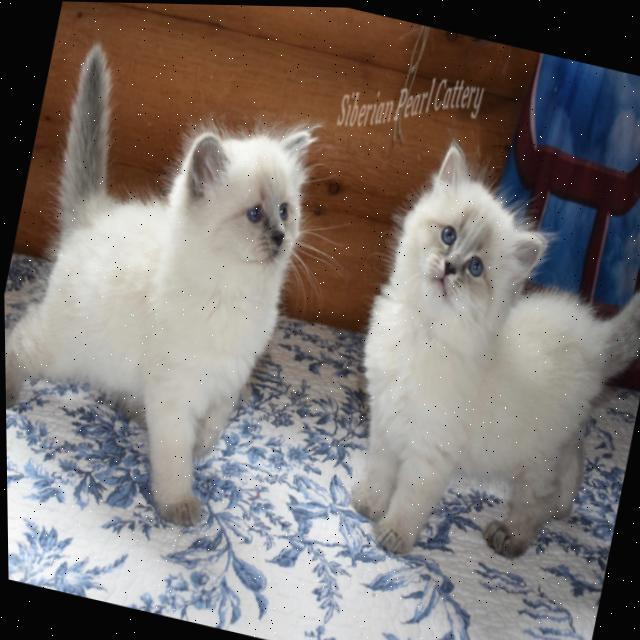Neva Masquerade: (0, 24, 336, 544), (310, 118, 640, 602)
